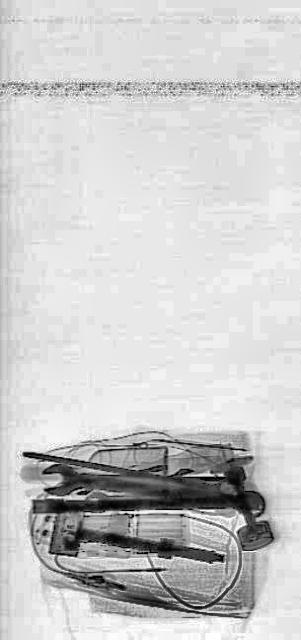Wrench: (39, 460, 264, 520)
